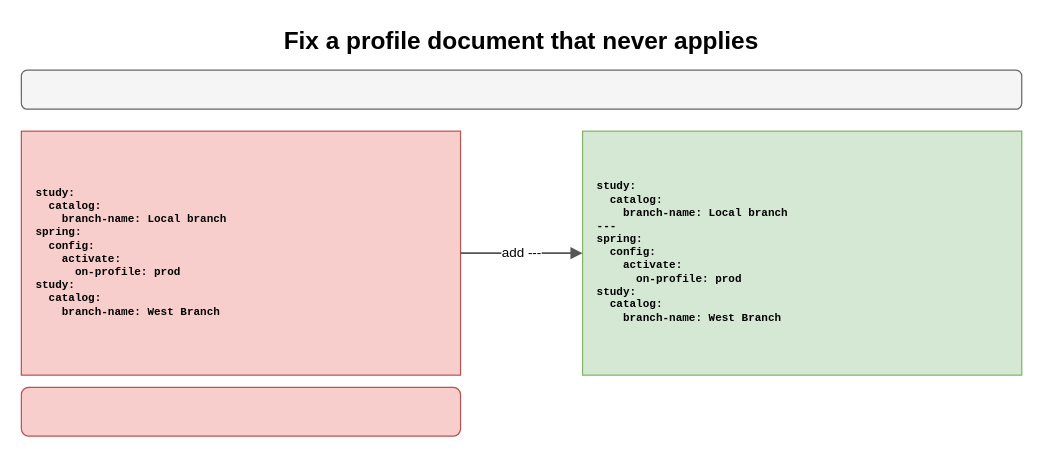
Some shapes in this 1043 by 458 pixel diagram are drawn without their labels. Each missing label, with the centre of its shape:
duplicate key → parse error at startup: [240,411]
Without --- it is one document with a duplicate study key: [521,89]
